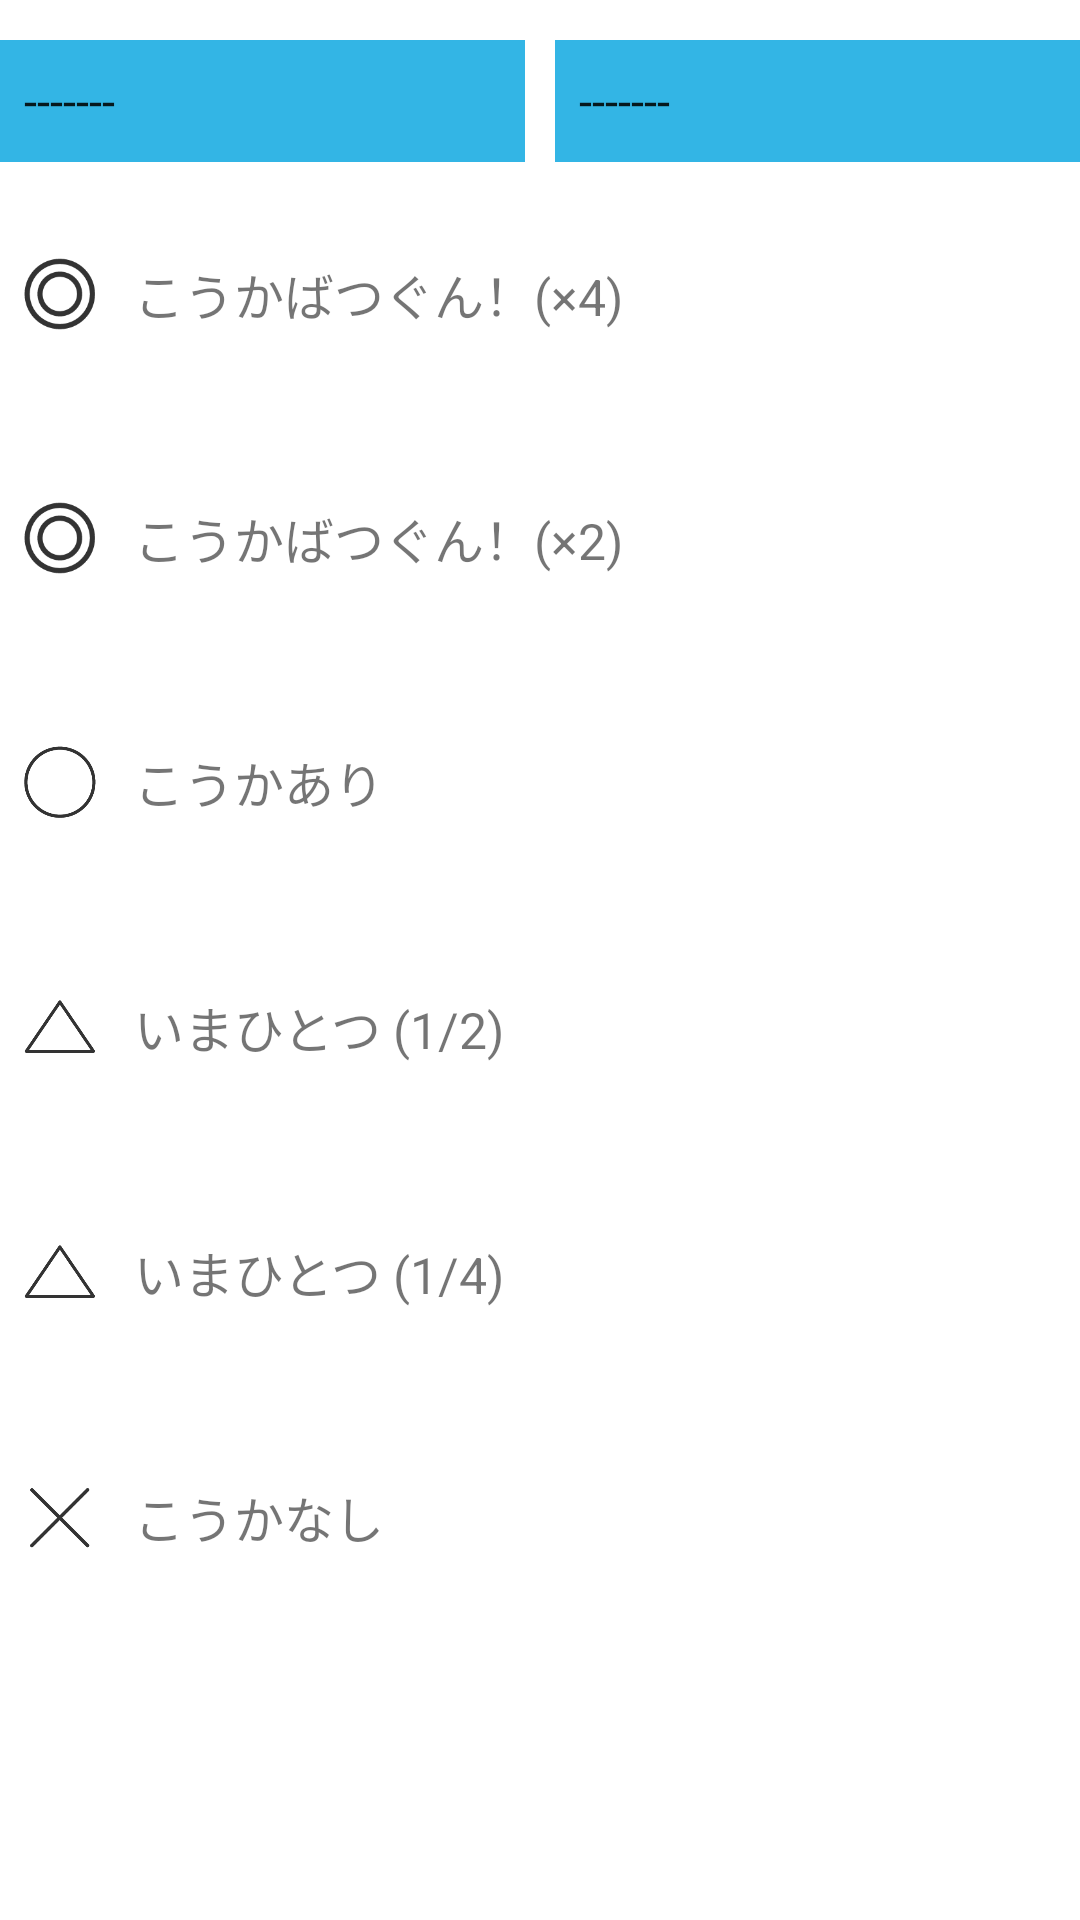

Screen size 1080px x 1920px. Icon name, then its center in pixels as point (x, y):
circle: point (60, 782)
cross: point (60, 1518)
doublecircle: point (59, 294), point (59, 538)
triangle: point (60, 1026), point (60, 1271)
